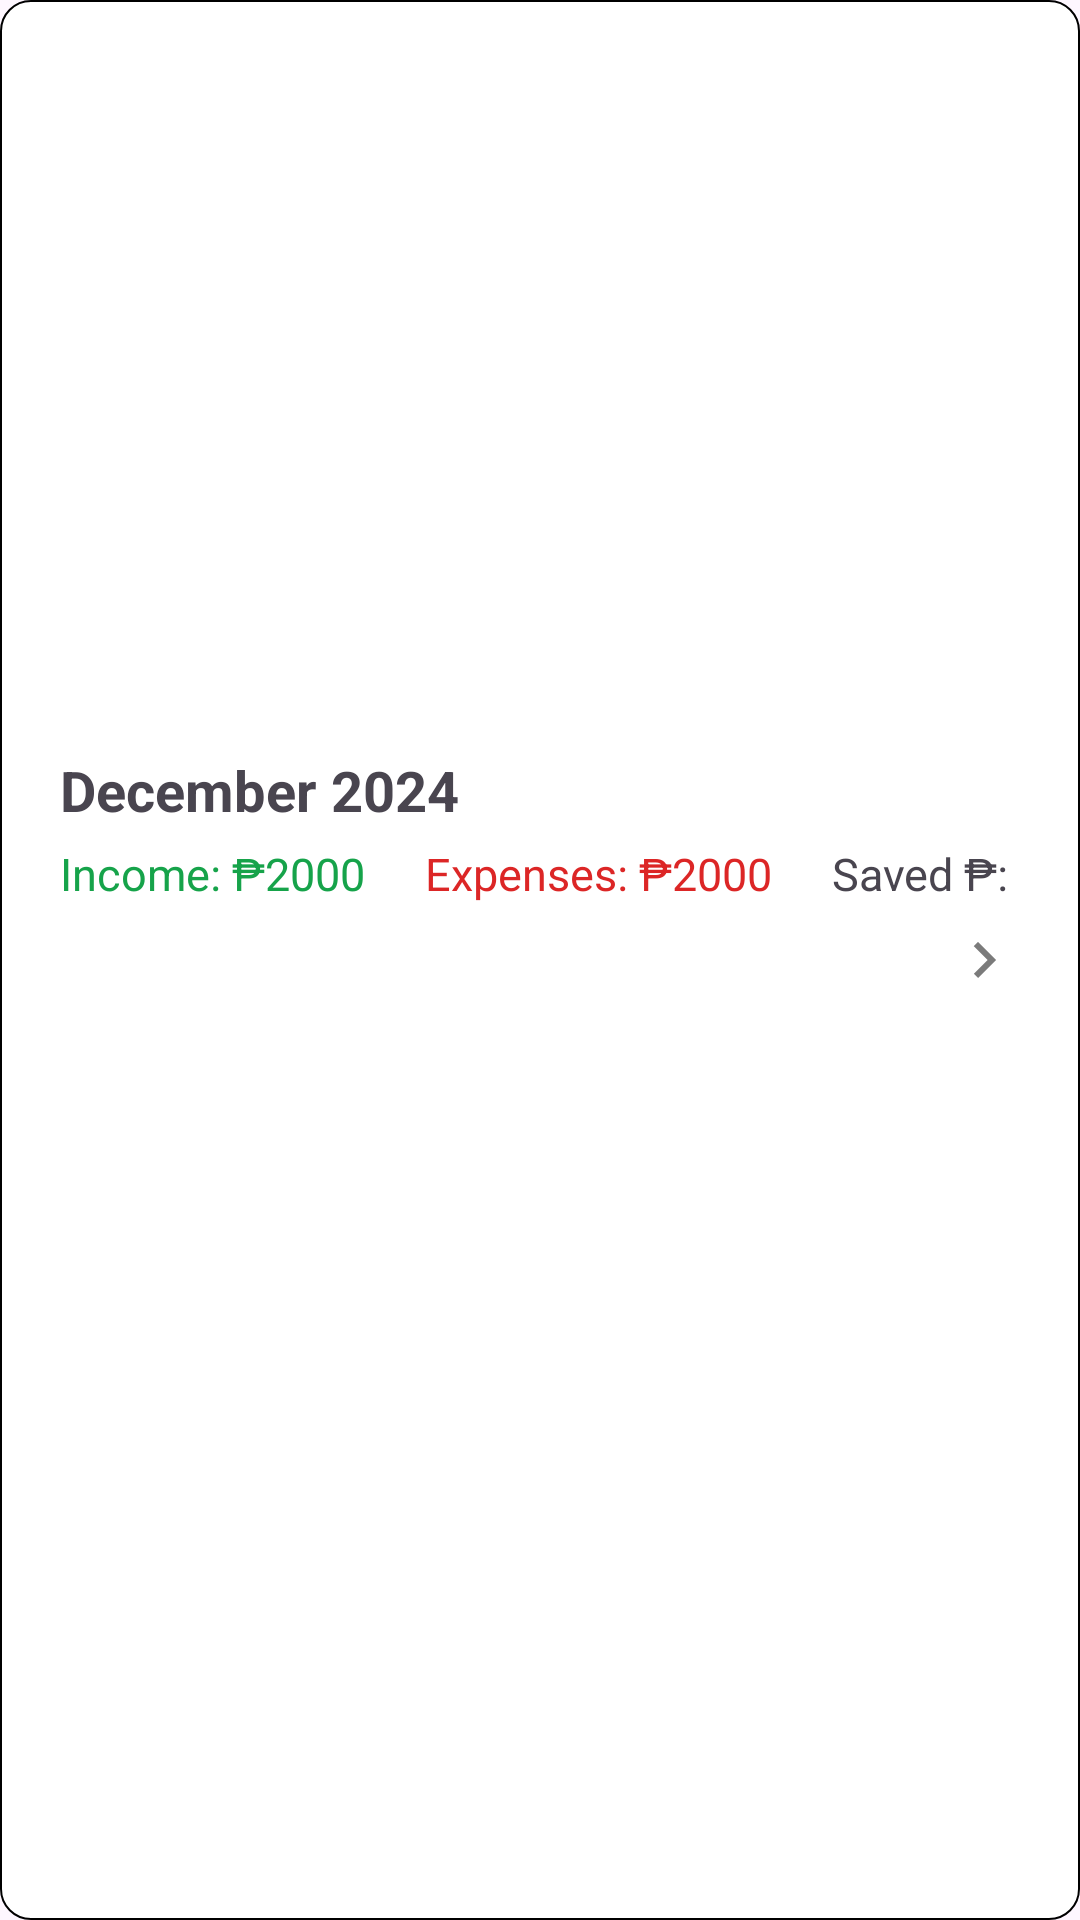

Where to tap for icons on this 1080px x 1920px app screen, as (x,y):
arrow right: (985,960)
